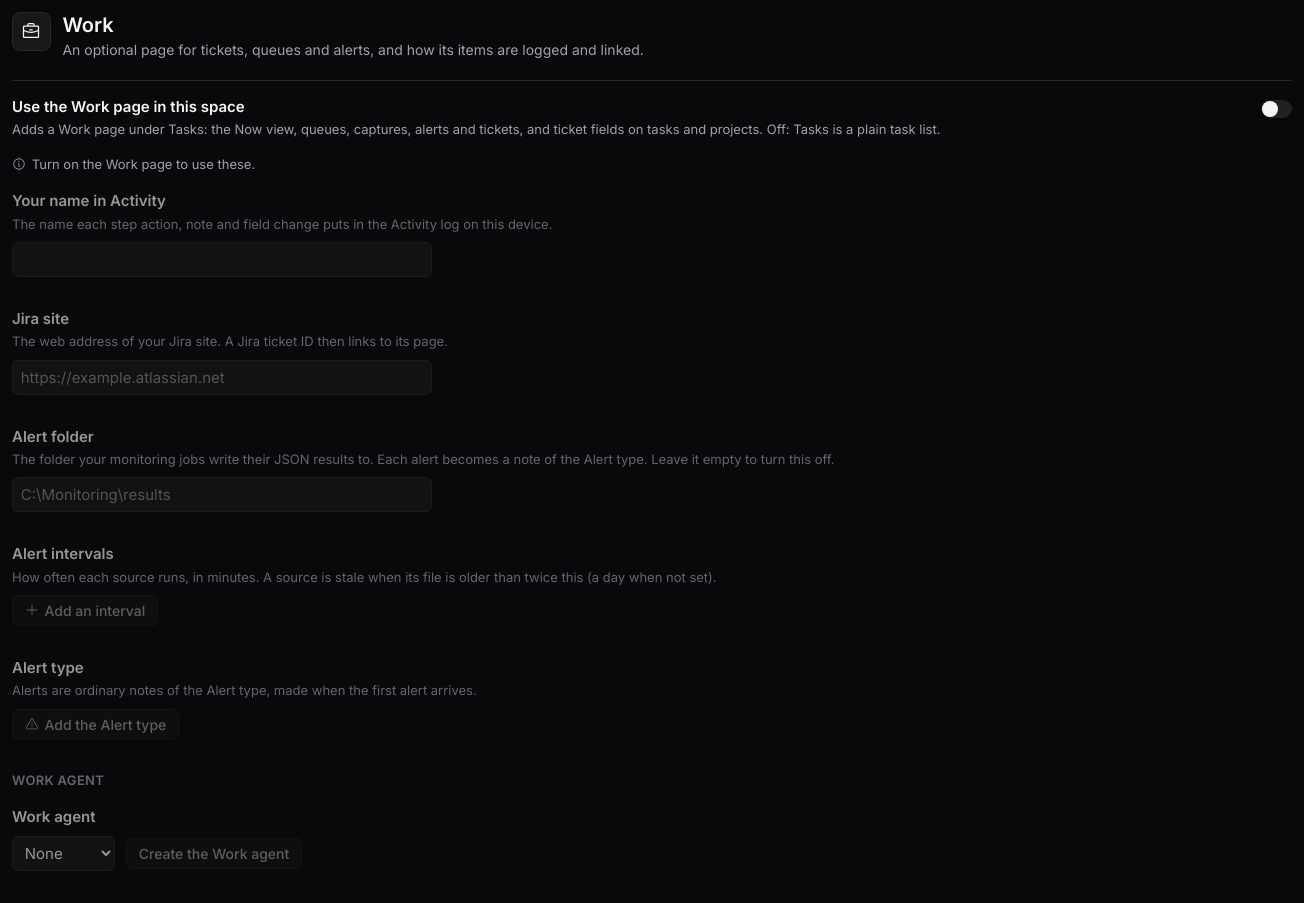
WorkSection: the Work switch (M32) › test the switch saves workEnabled to the space and the controls follow it
Click the switch named "Use the Work page in this space" at (1276, 109), box x1=1261 y1=100 x2=1292 y2=118
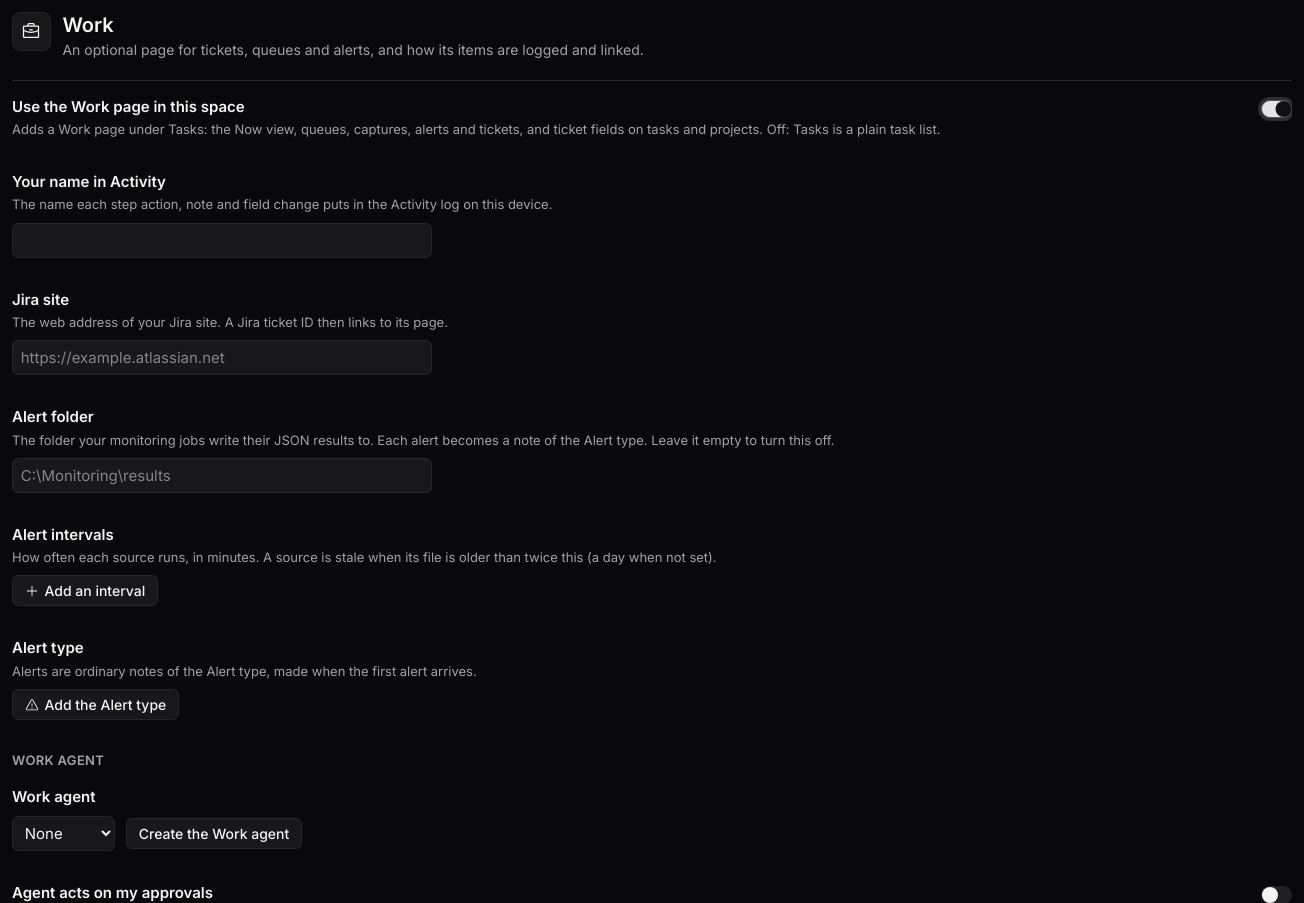
Expected: the field named "Jira site" is enabled, x1=12 y1=340 x2=432 y2=375
Expected: the text "Turn on the Work page to use these." is gone
And off again.
Click the switch named "Use the Work page in this space" at (1276, 109), box x1=1261 y1=100 x2=1292 y2=118
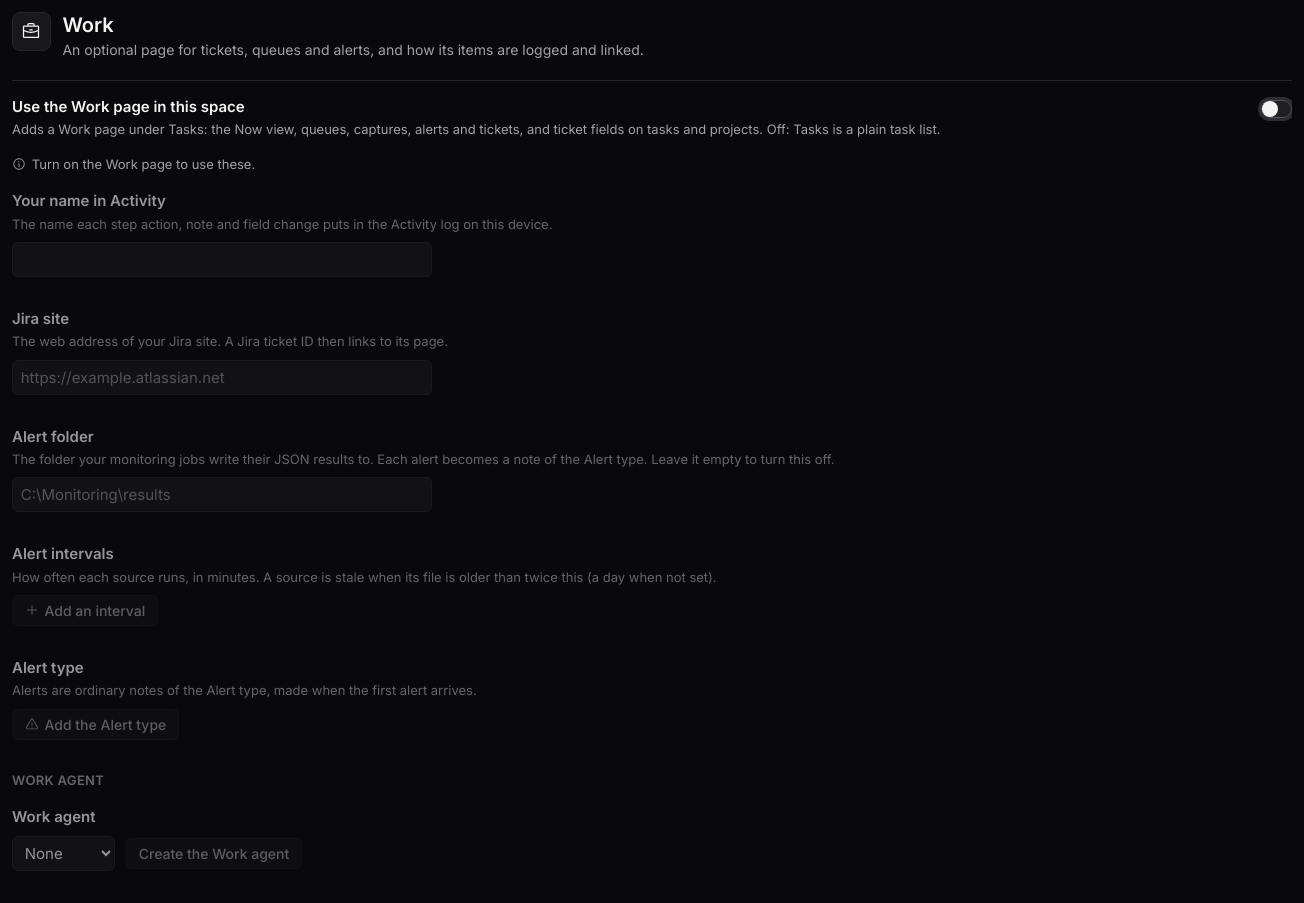
Expected: the field named "Jira site" is disabled, x1=12 y1=360 x2=432 y2=395
Expected: the text "Turn on the Work page to use these." is shown, x1=12 y1=156 x2=255 y2=172
